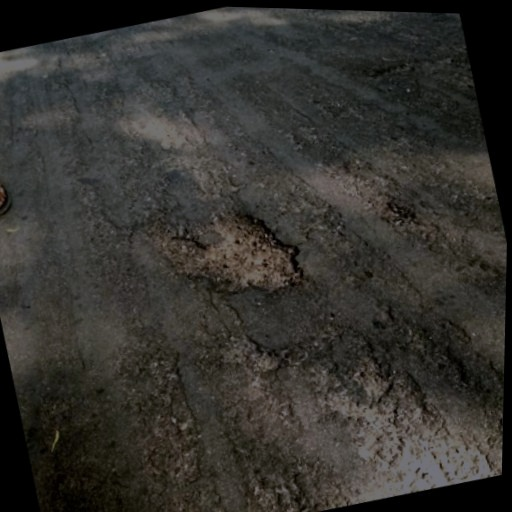pothole: (145, 192, 314, 321)
